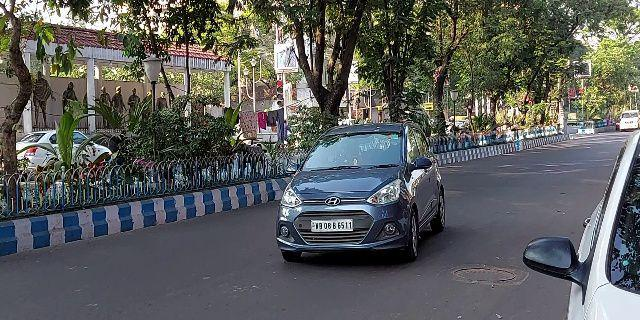Car: (272, 120, 451, 272), (520, 127, 640, 319)
